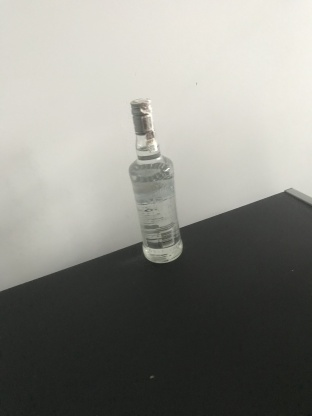nakretka: (129, 96, 154, 135)
